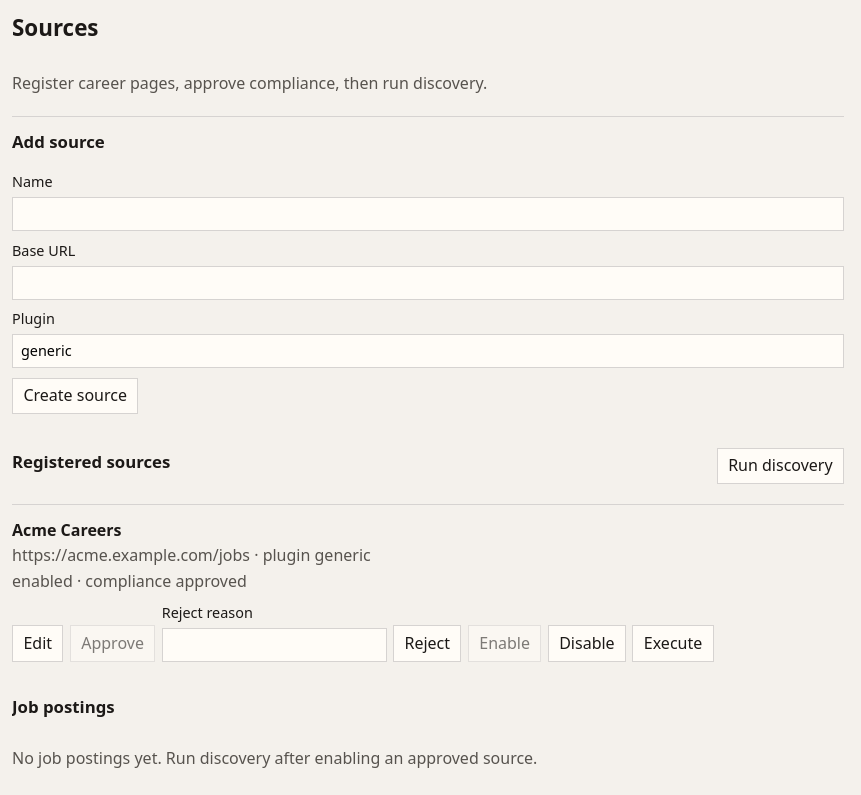
SourcesPage › sends X-Correlation-Id when executing an approved enabled source
Expected: the text "Acme Careers" is shown, top-left (12, 519), bottom-right (122, 541)
Step 1. Click the button "Execute" → [673, 643], box top-left (632, 625), bottom-right (714, 662)
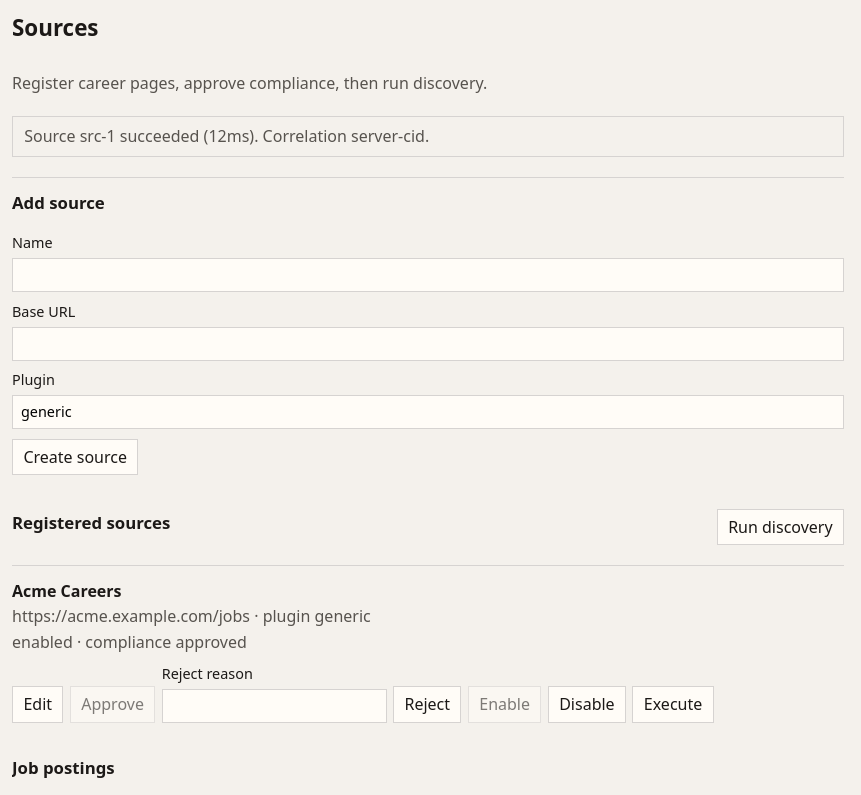
Expected: the text "Source src-1 succeeded (12ms). Correlation server-cid." is shown, top-left (12, 116), bottom-right (844, 157)
